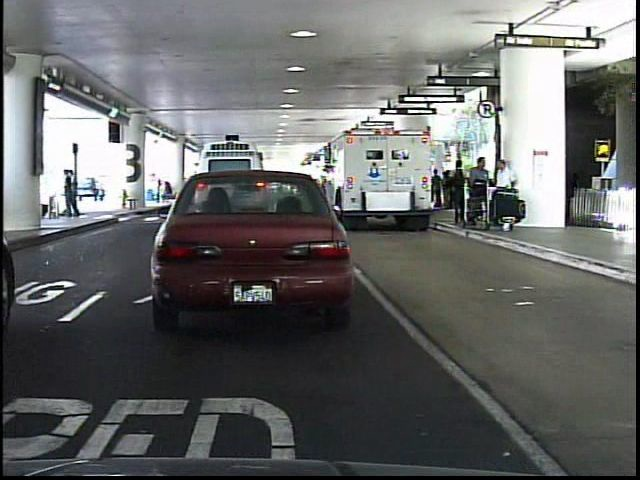person: (53, 166, 74, 223)
